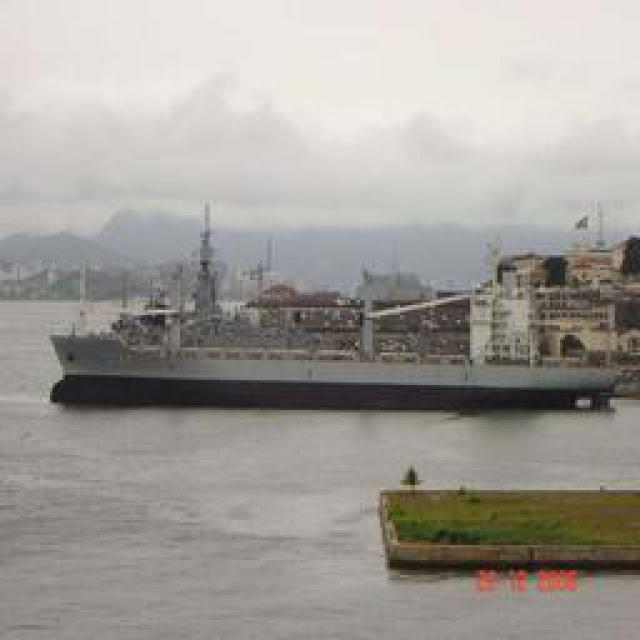Ship: (60, 312, 633, 412)
